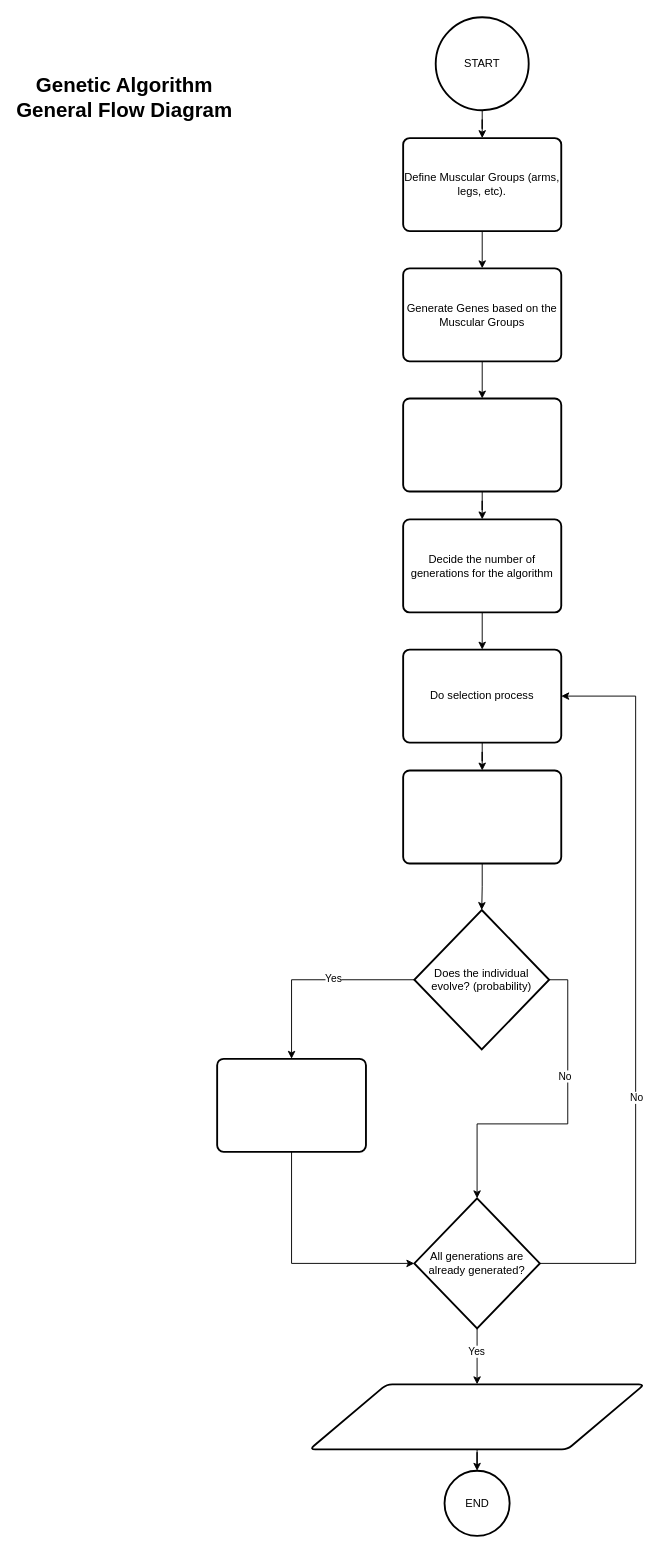
The diagram is 661 pixels wide and 1552 high, and some of its shapes have lost their labels. Here are the shapes that lost their labels. From the top down, the centre of each, then its label:
At pixel 482 444: "Generate population with 7 genes (7 days of the week)".
At pixel 482 816: "Do crossover process".
At pixel 291 1104: "Do evolve process".
At pixel 476 1416: "Print the best individual in the last generation and its routine".
